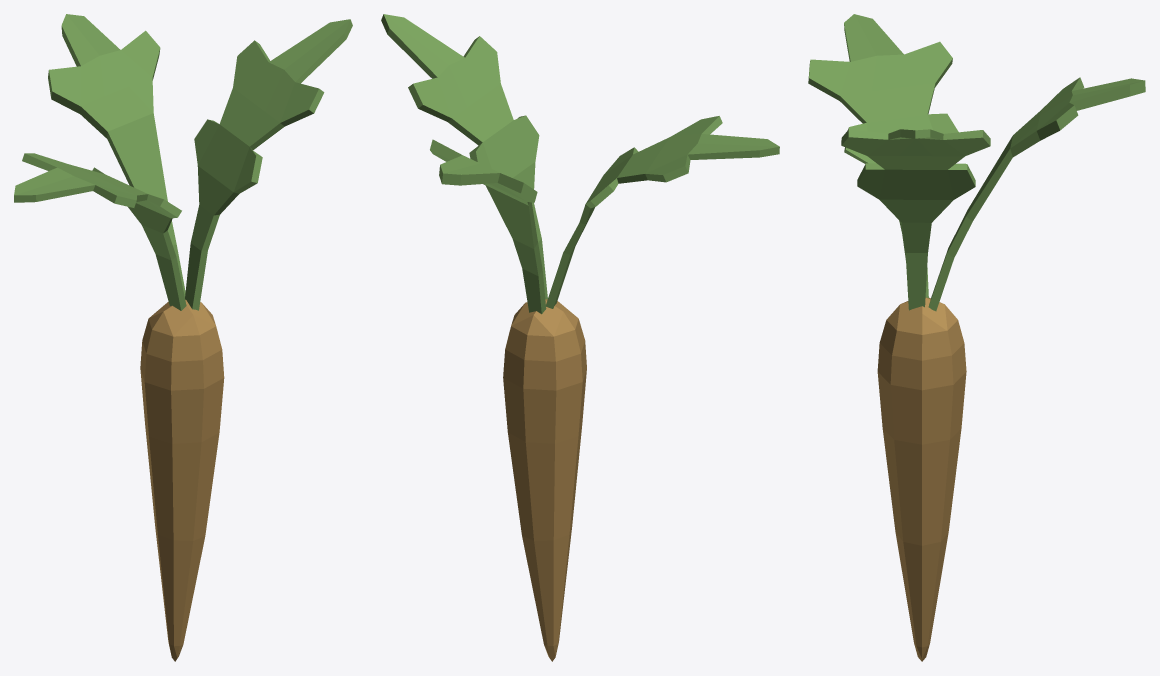
The model's file is carrot_3.gltf.
The picture shows the model from 3 angles, left to right: view 1: azimuth 30°, elevation 25°; view 2: azimuth 150°, elevation 25°; view 3: azimuth 270°, elevation 25°; orthographic projection. The views are drawn at different scales.
Visible parts, largest first — view 1: carrot_3; view 2: carrot_3; view 3: carrot_3.
Boxes of the visible parts, bbox=[...] form: carrot_3: bbox=[14, 14, 352, 661]; carrot_3: bbox=[381, 14, 779, 661]; carrot_3: bbox=[808, 14, 1145, 661].
Bounding box in the file's own units: 0.3336 × 0.5215 × 0.2582.
1 material, 1 textured.
